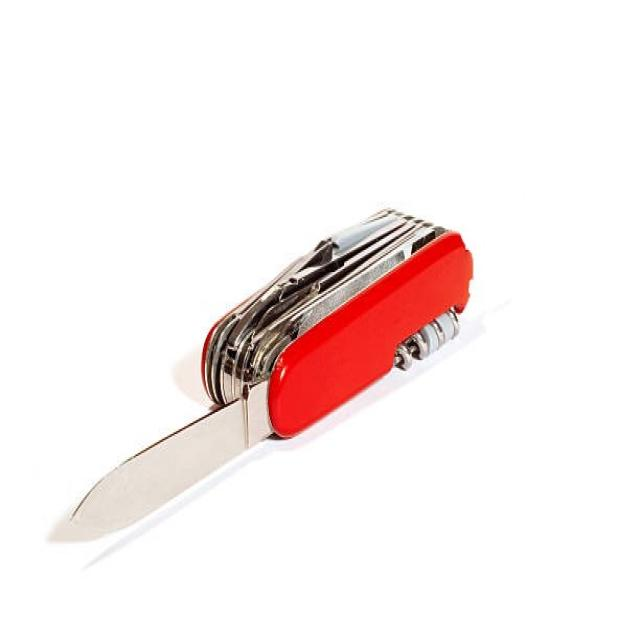knife: (29, 191, 486, 561)
